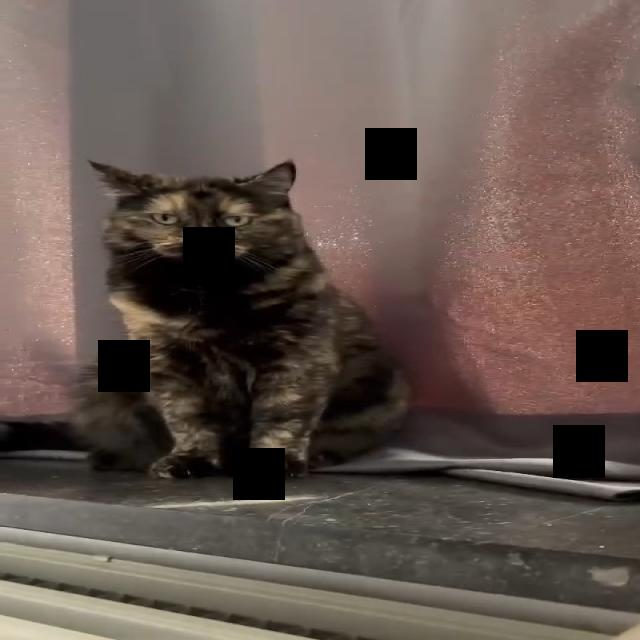authorized: (68, 158, 413, 480)
